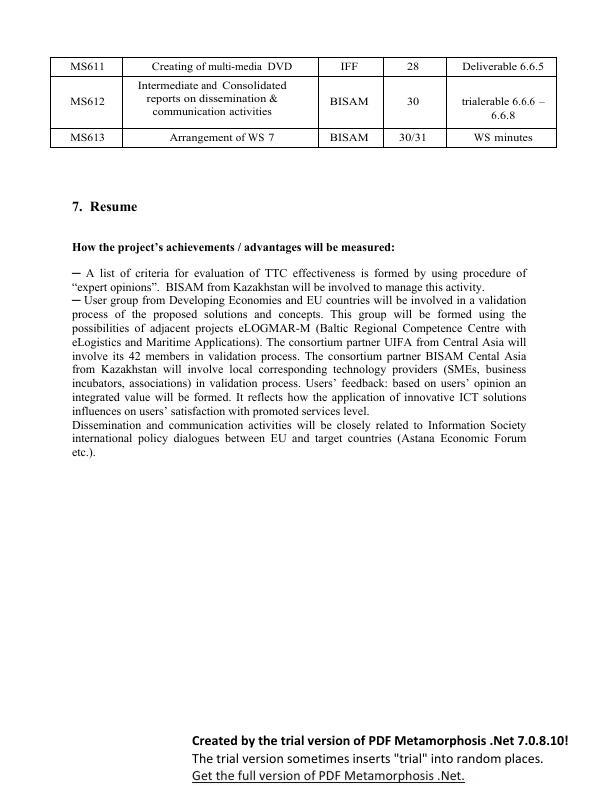table: (47, 53, 562, 154)
text: (65, 266, 535, 460), (186, 731, 575, 784), (71, 241, 399, 257), (68, 198, 143, 214)
